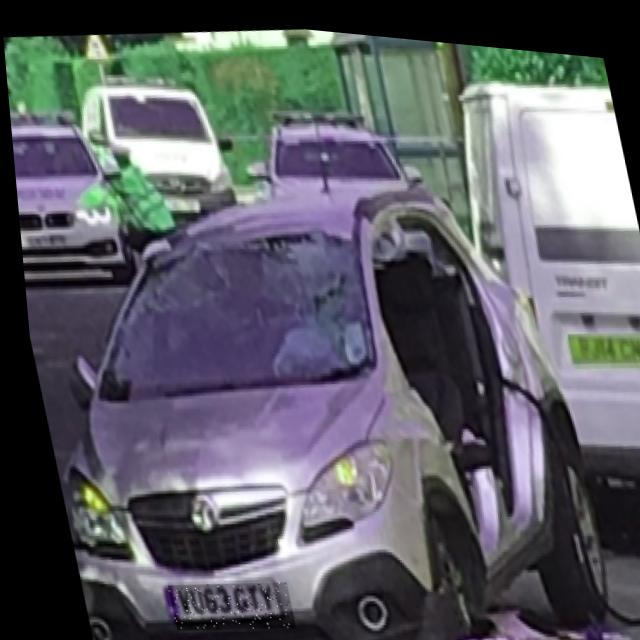license_plate: (155, 568, 285, 636), (561, 312, 640, 362)
